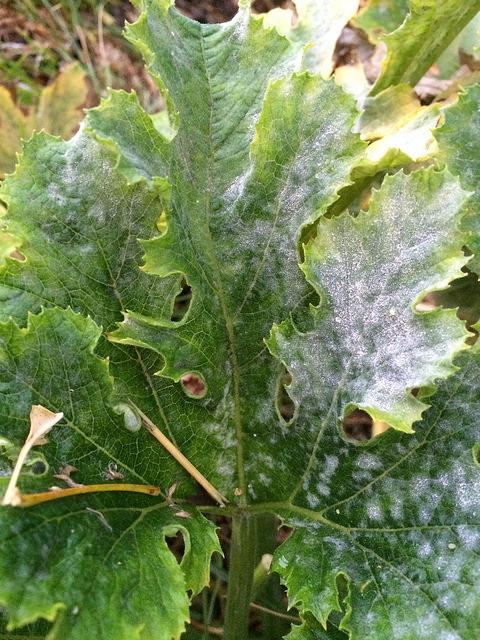Squash Powdery mildew leaf: (121, 1, 374, 431), (260, 159, 471, 445), (1, 95, 141, 335)
